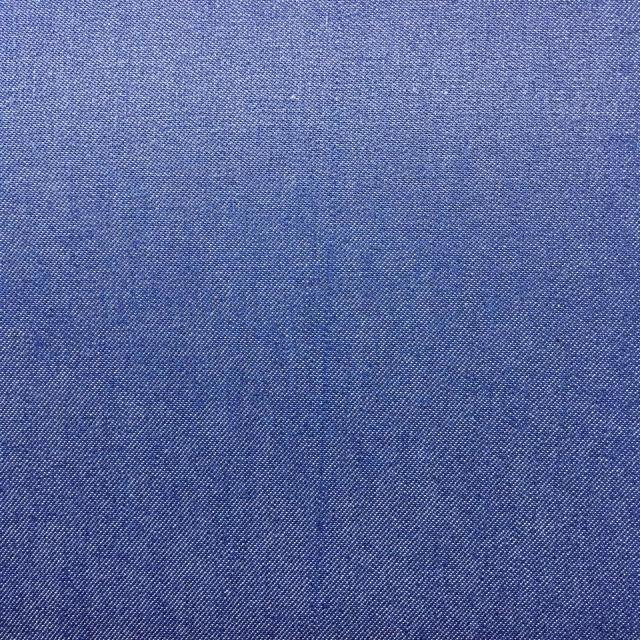Line: (316, 236, 335, 595)
